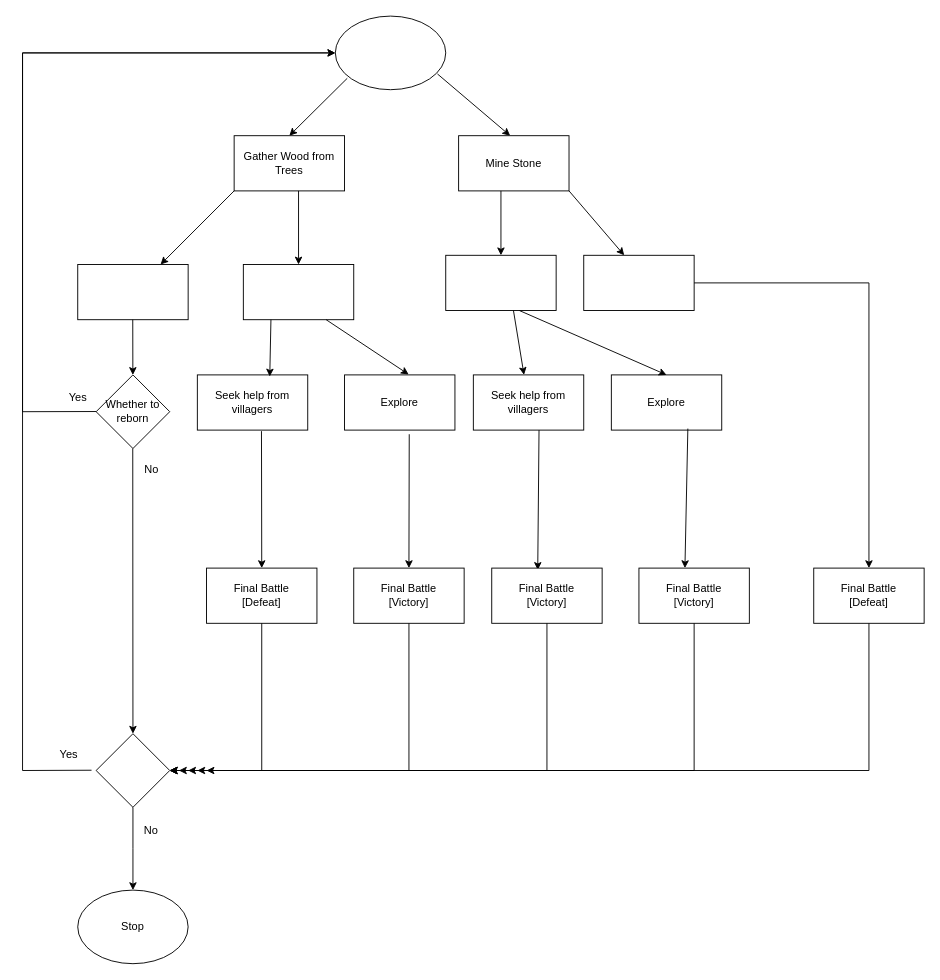
This 940x980 diagram has some shape labels left out. The shapes that lost their labels are listed below. From the top down, each one's centre as x and y in pixels, then its label:
the point at 390,52: Start
the point at 132,292: Explore cave and die
the point at 298,292: Build Shelter
the point at 500,282: Build Fortress
the point at 638,282: Explore Cave
the point at 132,770: Play Again
